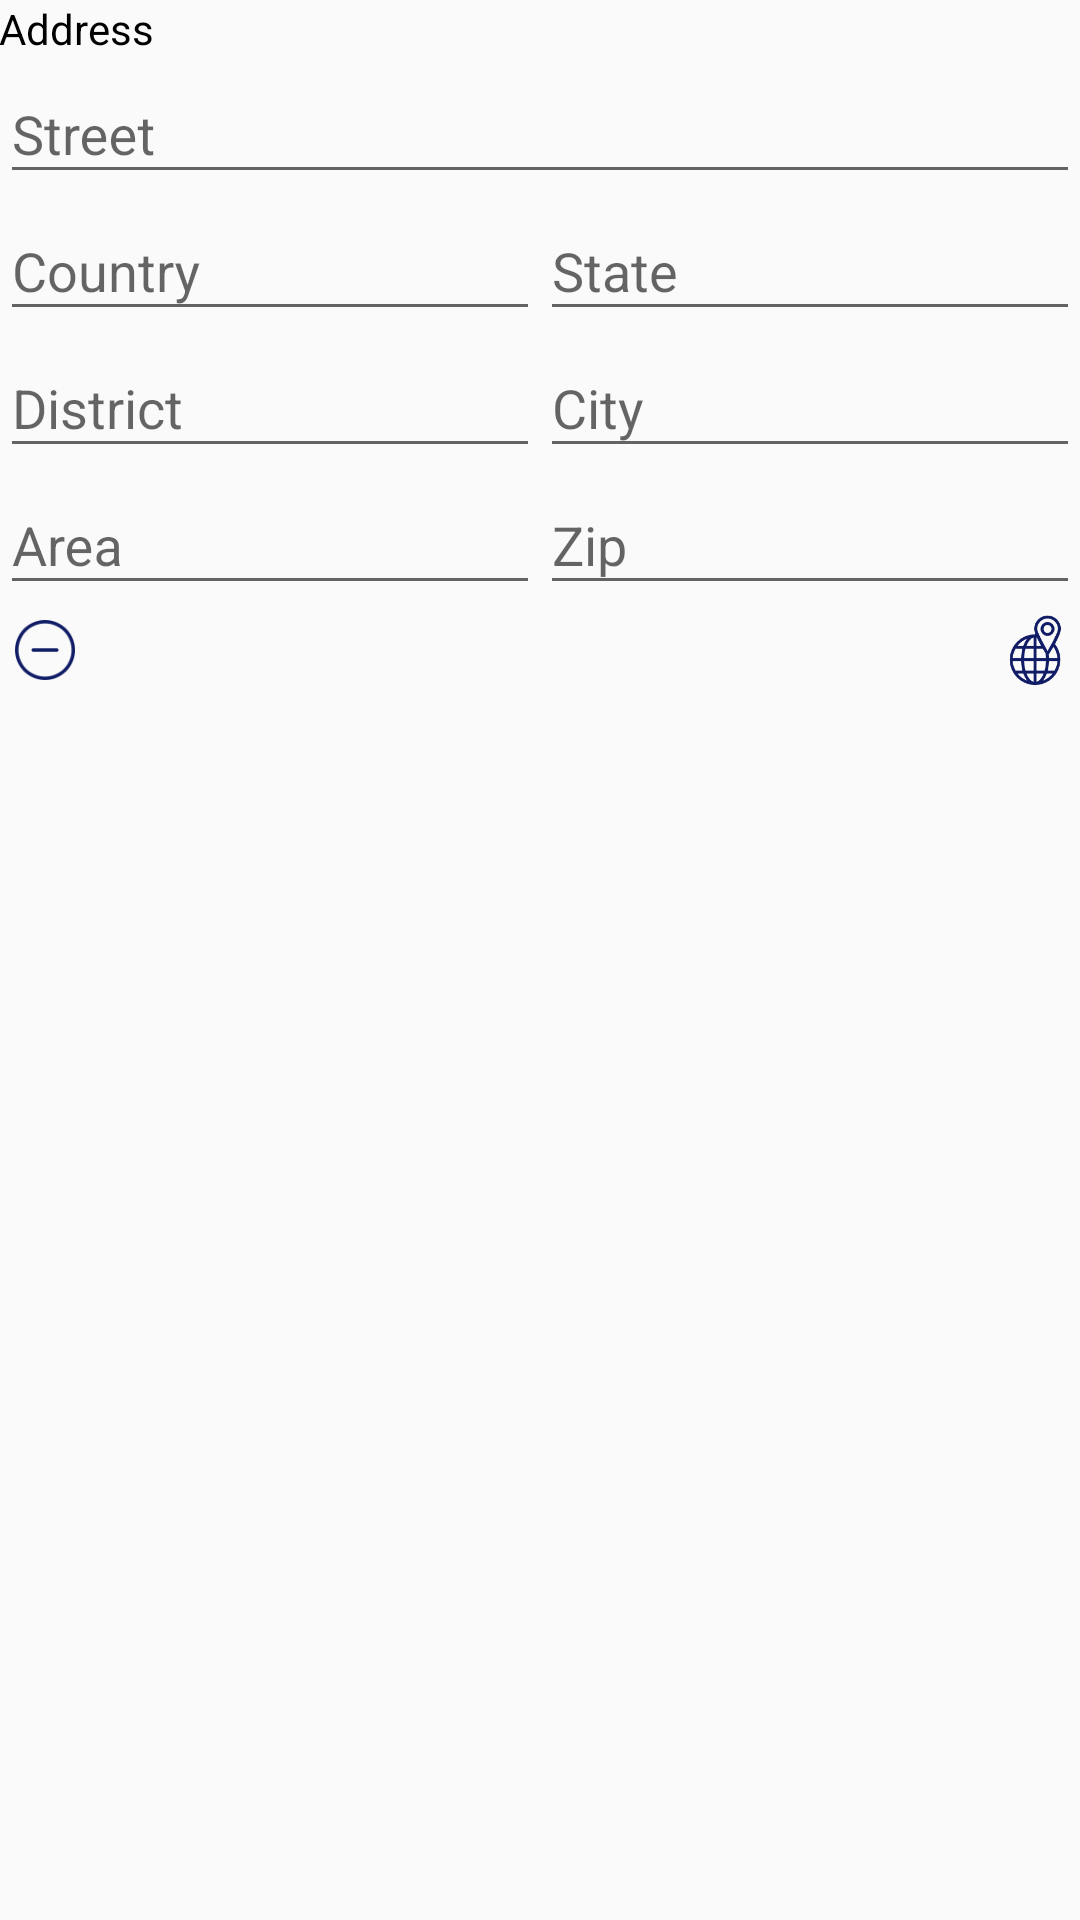

Icons on this 1080px×1920px Android screen, each with its box as (x1, y1, x2, y2):
glob: (1009, 615, 1061, 685)
remove: (15, 620, 75, 680)
